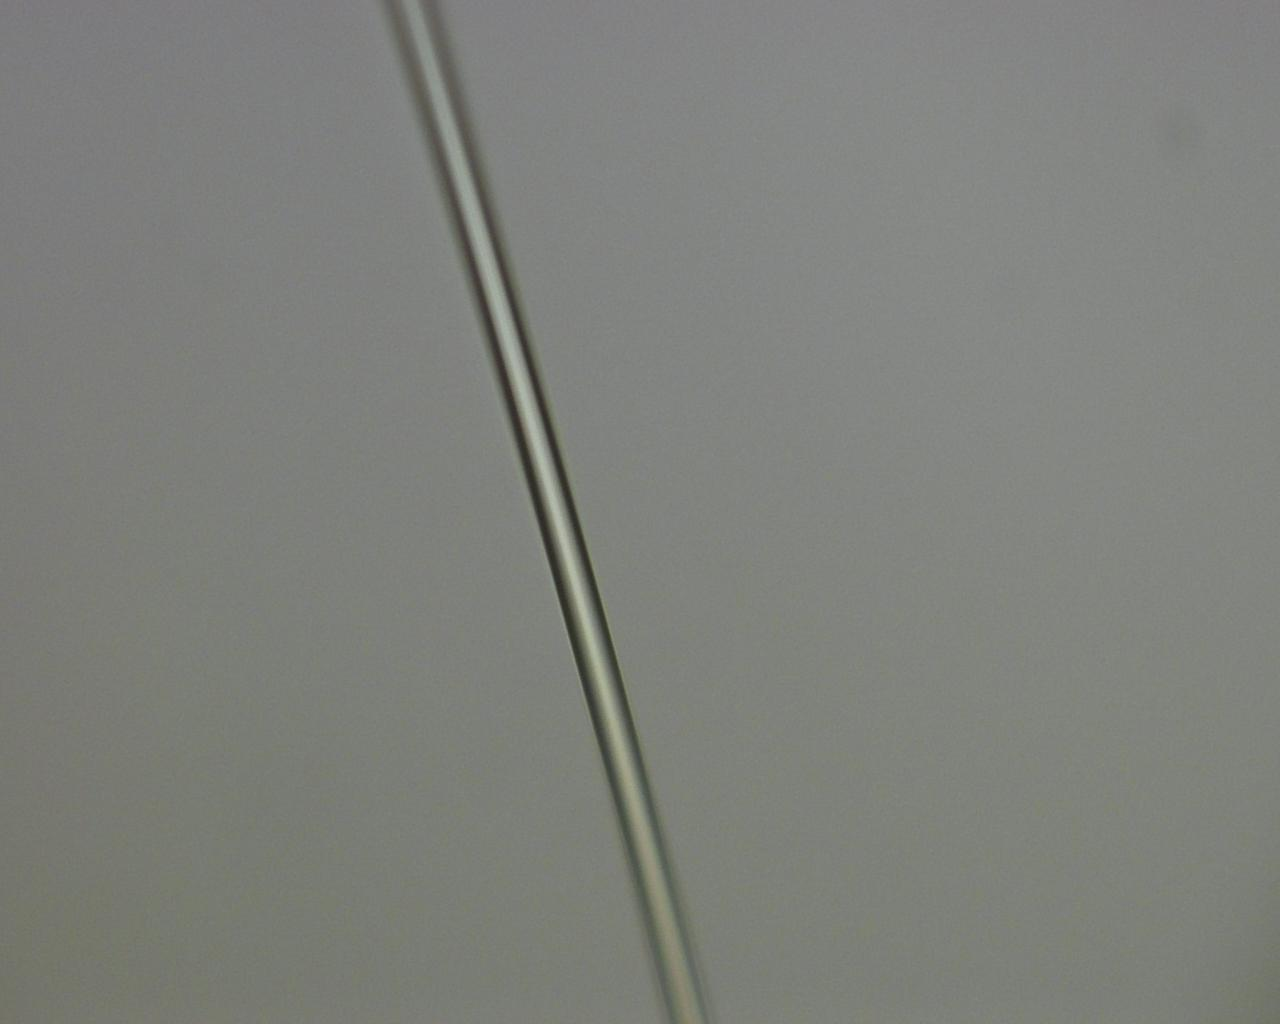fiber: (548, 0, 655, 1024)
